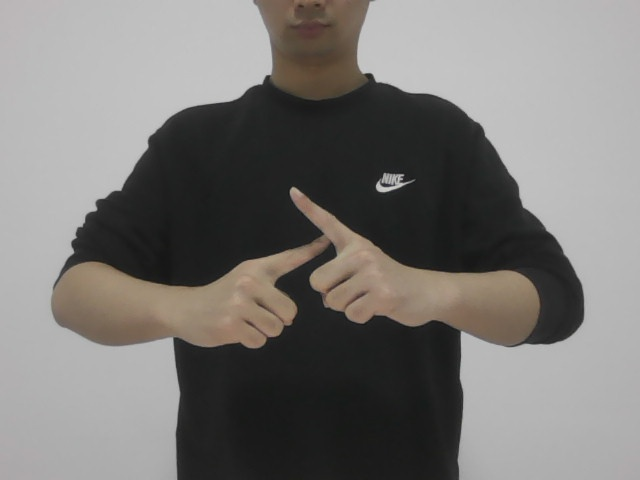peason: (199, 183, 416, 364)
